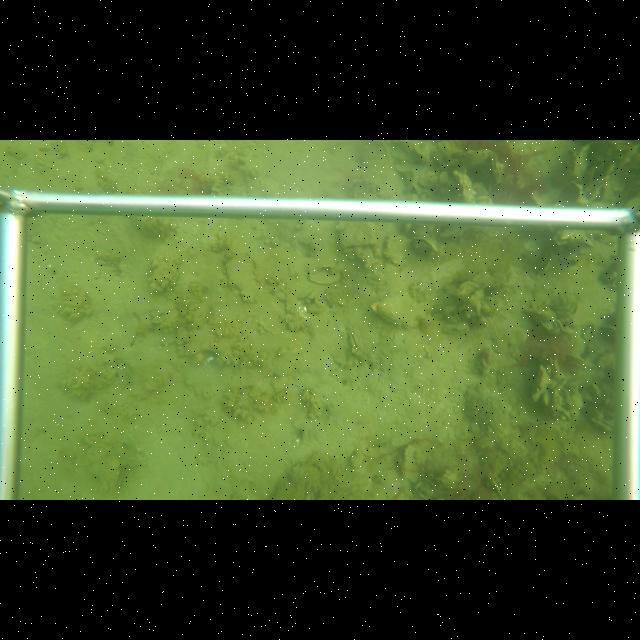Oyster-Closed: (370, 290, 434, 329), (222, 253, 259, 303), (520, 308, 568, 333), (382, 237, 409, 264)
Oyster-Open: (488, 151, 503, 184), (412, 238, 439, 256), (347, 329, 361, 358)
